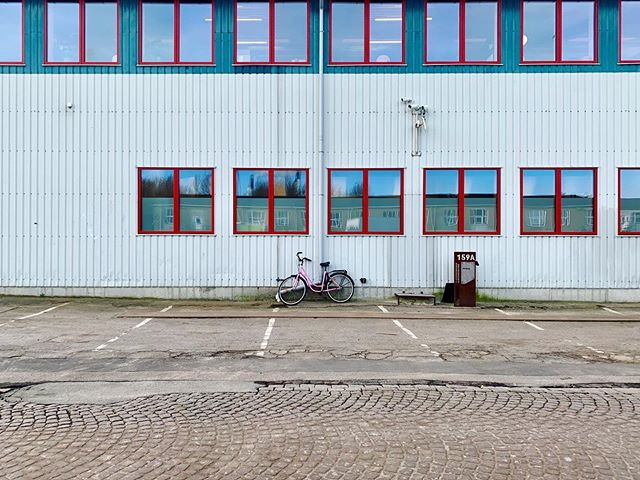bicicle: (267, 249, 358, 300)
building: (1, 1, 633, 296)
window: (136, 159, 215, 239), (232, 166, 312, 235), (325, 167, 405, 236), (419, 166, 499, 235), (520, 165, 600, 234), (136, 1, 217, 66), (39, 1, 120, 65), (233, 1, 310, 66), (328, 1, 405, 66), (426, 1, 503, 66), (526, 1, 603, 66)
